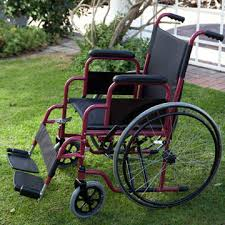wheelchair: (2, 11, 222, 217)
